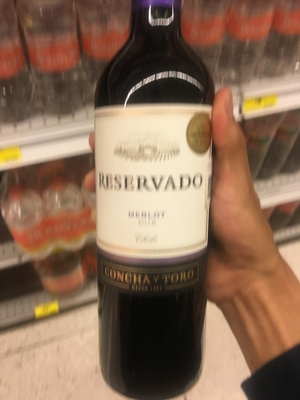reservado merlot: (91, 19, 234, 386)
